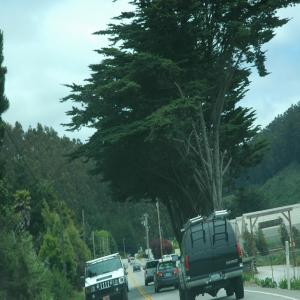Vehicle-registration-plate: (213, 274, 222, 282)
